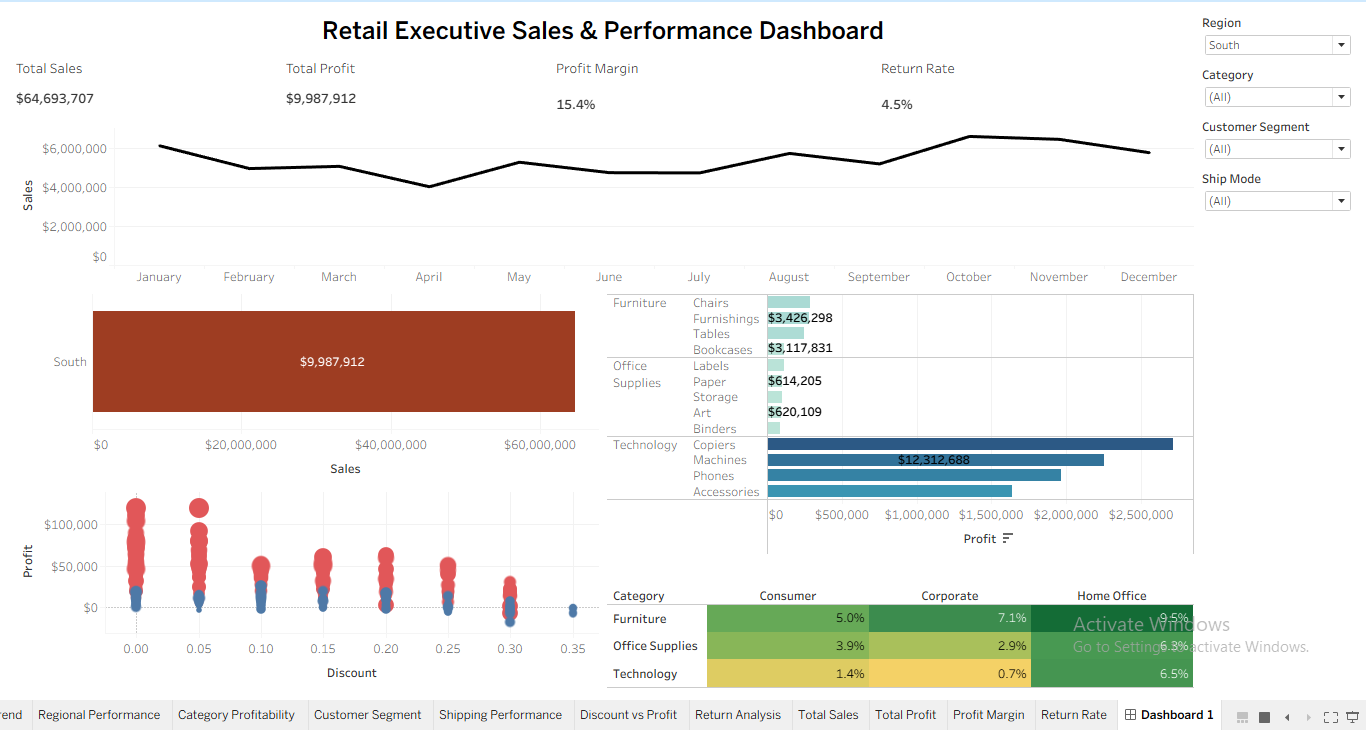

The dashboard page shown, as its layout file describes it:
{"tool":"tableau","page":{"name":"Dashboard 1","canvas":[1000,1000],"units":"permille","ordinal":0},"visuals":[{"type":"title","box":[6.9,14.5,848,58.8]},{"type":"filter","title":"Regional Performance","param":"[federated.1w3mb3z008lfzm1epvylw1bripmz].[none:region:nk]","box":[854.9,14.5,138.2,94.2]},{"type":"worksheet","title":"Total Sales","mark":"Automatic","box":[6.9,73.3,192.2,104.2]},{"type":"worksheet","title":"Total Profit","mark":"Automatic","box":[199.2,73.3,192.3,104.2]},{"type":"worksheet","title":"Profit Margin","mark":"Automatic","box":[391.5,73.3,231.7,104.2]},{"type":"worksheet","title":"Return Rate","mark":"Automatic","box":[623.1,73.3,231.8,104.2]},{"type":"filter","title":"Category Profitability","param":"[federated.1w3mb3z008lfzm1epvylw1bripmz].[none:category:nk]","box":[854.9,108.7,138.2,94.2]},{"type":"worksheet","title":"Sales Trend","mark":"Automatic","rows":["sales"],"cols":["order_date"],"box":[6.9,177.5,848,236]},{"type":"filter","title":"Return Analysis","param":"[federated.1w3mb3z008lfzm1epvylw1bripmz].[none:customer_segment:nk]","box":[854.9,202.9,138.2,94.2]},{"type":"filter","title":"Sales Trend","param":"[federated.1w3mb3z008lfzm1epvylw1bripmz].[none:ship_mode:nk]","box":[854.9,297.1,138.2,94.2]},{"type":"worksheet","title":"Regional Performance","mark":"Automatic","rows":["region"],"cols":["sales"],"box":[6.9,413.5,423.9,282.1]},{"type":"worksheet","title":"Category Profitability","mark":"Automatic","rows":["category","sub_category"],"cols":["profit"],"box":[430.9,413.5,424.1,383.5]},{"type":"worksheet","title":"Discount vs Profit","mark":"Circle","rows":["profit"],"cols":["discount"],"box":[6.9,695.6,423.9,289.9]},{"type":"worksheet","title":"Return Analysis","mark":"Square","rows":["category"],"cols":["customer_segment"],"box":[430.9,797,424.1,188.5]}]}

Visuals, with their boxes on the dashboard's canvas, which has no fixed pixel size, in thousandths of its width and height (x1, y1, x2, y2). These are canvas units, not pixel positions in the 1366x730 screenshot, which may show the page scaled, cropped or inside an application window:
title: detection(7, 14, 855, 73)
"Regional Performance" filter: detection(855, 14, 993, 109)
"Total Sales" worksheet: detection(7, 73, 199, 178)
"Total Profit" worksheet: detection(199, 73, 392, 178)
"Profit Margin" worksheet: detection(392, 73, 623, 178)
"Return Rate" worksheet: detection(623, 73, 855, 178)
"Category Profitability" filter: detection(855, 109, 993, 203)
"Sales Trend" worksheet: detection(7, 178, 855, 414)
"Return Analysis" filter: detection(855, 203, 993, 297)
"Sales Trend" filter: detection(855, 297, 993, 391)
"Regional Performance" worksheet: detection(7, 414, 431, 696)
"Category Profitability" worksheet: detection(431, 414, 855, 797)
"Discount vs Profit" worksheet (Circle marks): detection(7, 696, 431, 986)
"Return Analysis" worksheet (Square marks): detection(431, 797, 855, 986)
